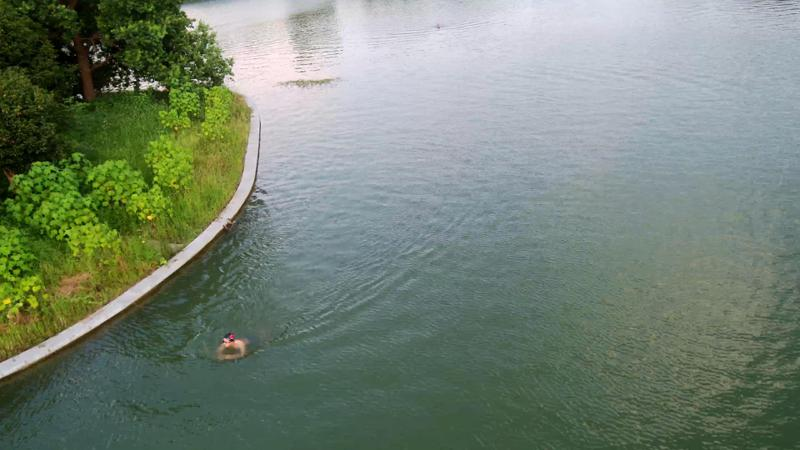swimmers: (215, 330, 249, 361)
